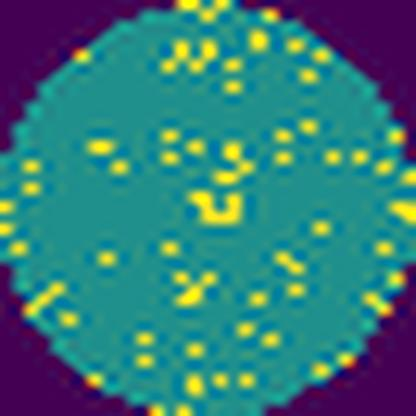Center: (182, 140, 257, 233)
